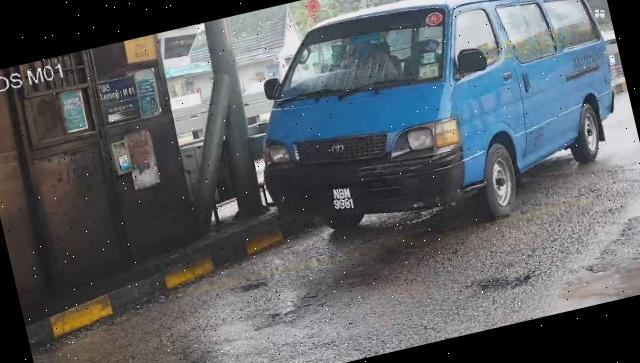License_Plate: (325, 181, 361, 219)
van: (233, 1, 639, 268)
